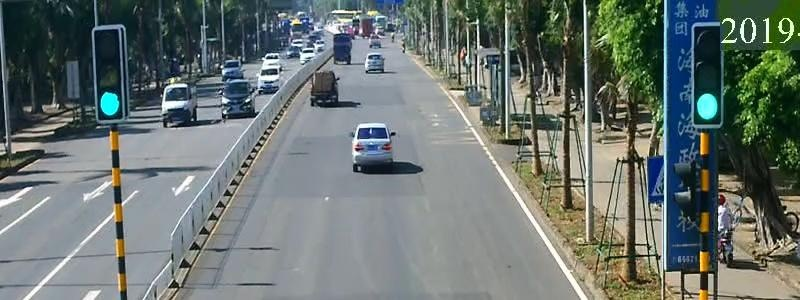green: (92, 88, 135, 125), (693, 88, 727, 126)
